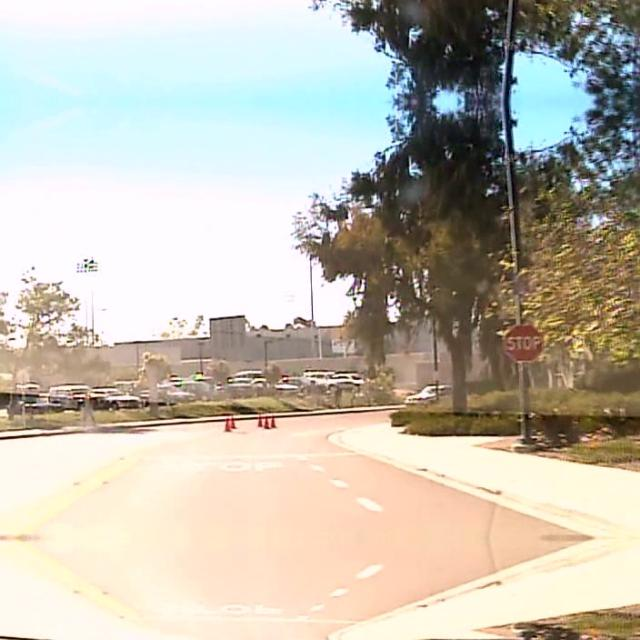stop: (502, 321, 542, 361)
